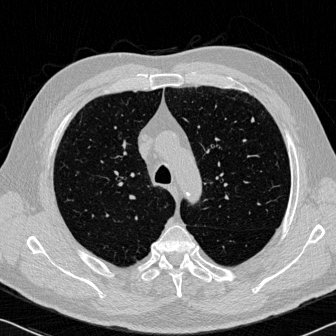nodule: (250, 118, 254, 122)
